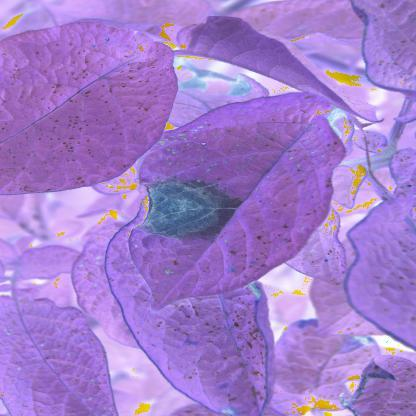Potato leaf: (154, 84, 416, 232)
